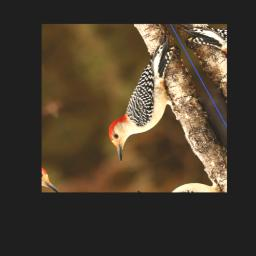Woodpecker: (73, 27, 215, 162)
